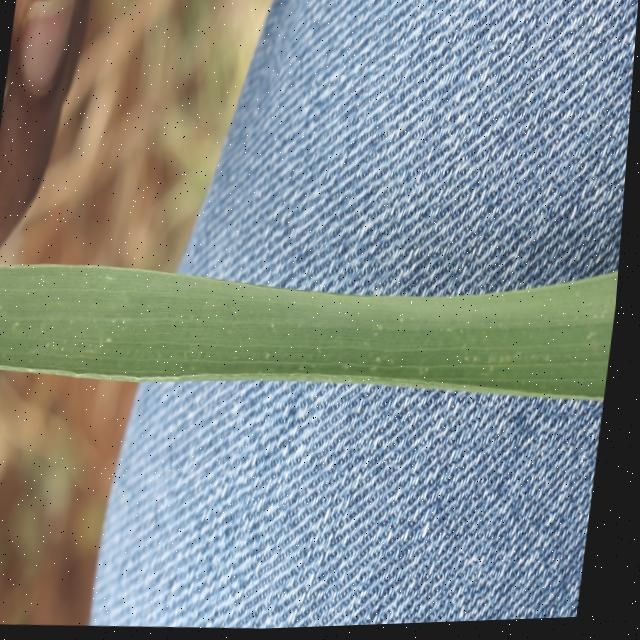healthy_wheat: (0, 163, 629, 435)
